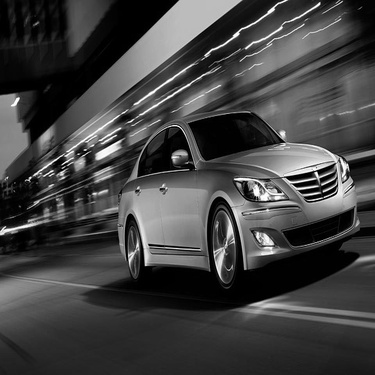car: (103, 103, 363, 295)
